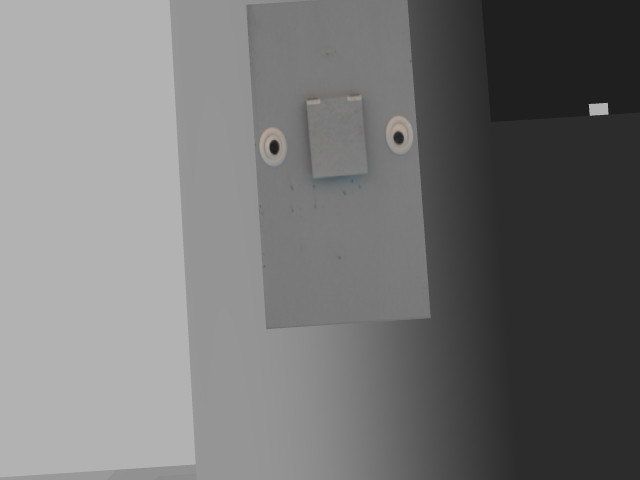facade: (256, 91, 415, 182)
